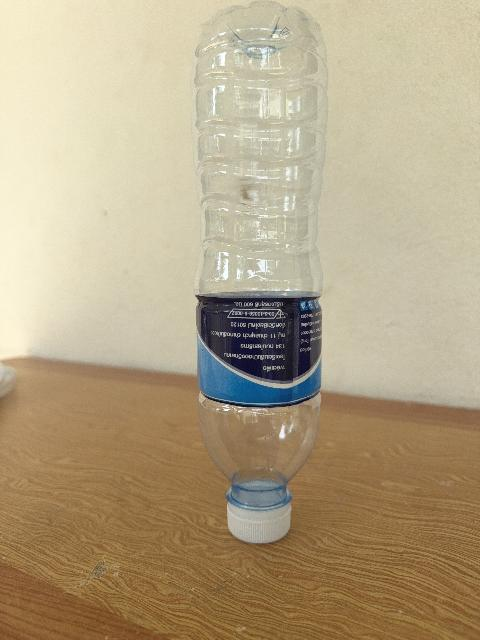bottle: (193, 2, 327, 542)
